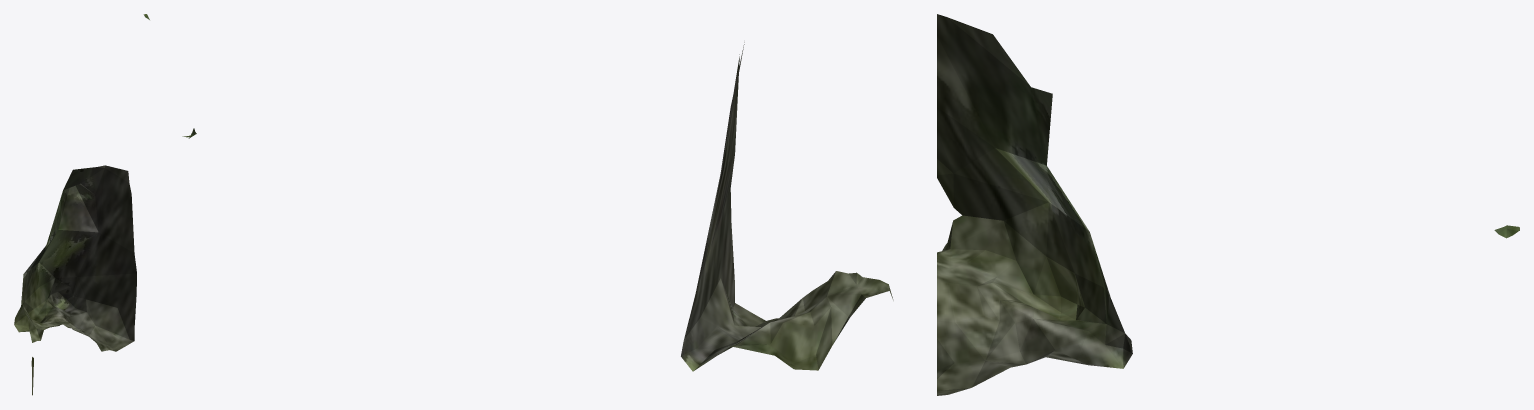
3 renders of one model, left to right at view 1: azimuth 30°, elevation 25°; view 2: azimuth 150°, elevation 25°; view 3: azimuth 270°, elevation 25°, orthographic. The views are drawn at different scales.
Size of the model in its own units: 2.95 by 2.09 by 2.95.
1 material, 1 textured.
